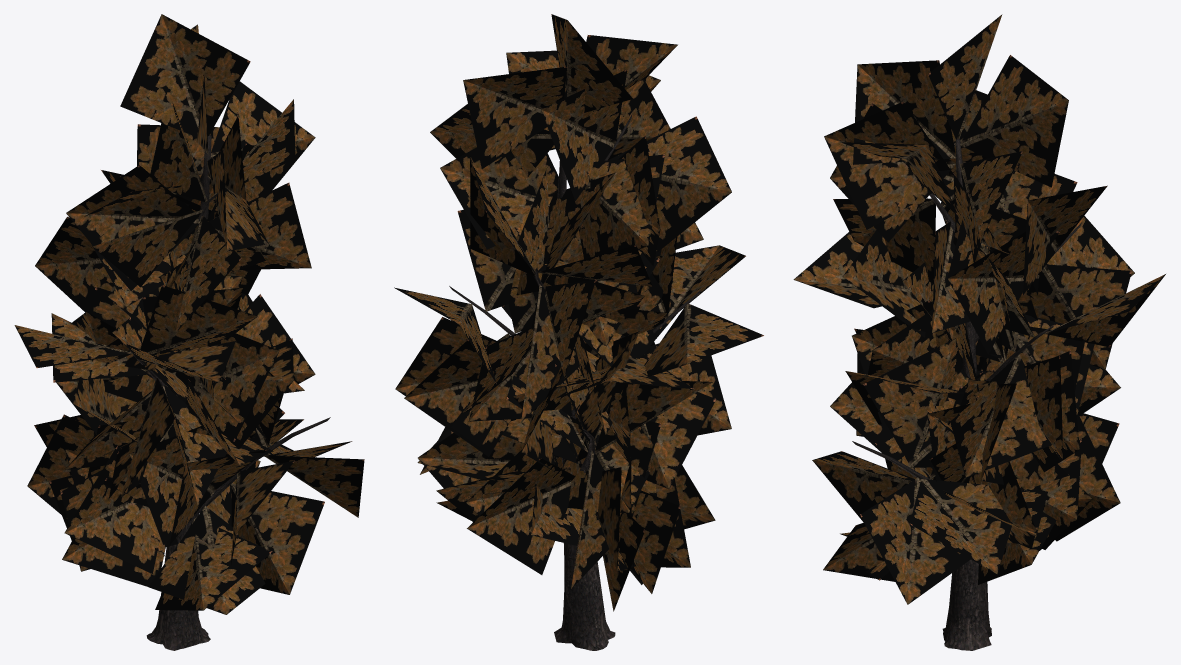
Rendered from destructable_tree.glb.
3 renders of one model, left to right at view 1: azimuth 30°, elevation 25°; view 2: azimuth 150°, elevation 25°; view 3: azimuth 270°, elevation 25°, orthographic. The views are drawn at different scales.
Visible parts, largest first — view 1: tree_6; view 2: tree_6; view 3: tree_6.
Boxes of the visible parts, <box> form: tree_6: <box>14,14,364,650</box>; tree_6: <box>394,14,763,650</box>; tree_6: <box>793,14,1165,650</box>.
Bounding box in the file's own units: 3.2 × 6.06 × 3.29.
2 materials, 2 textured.
